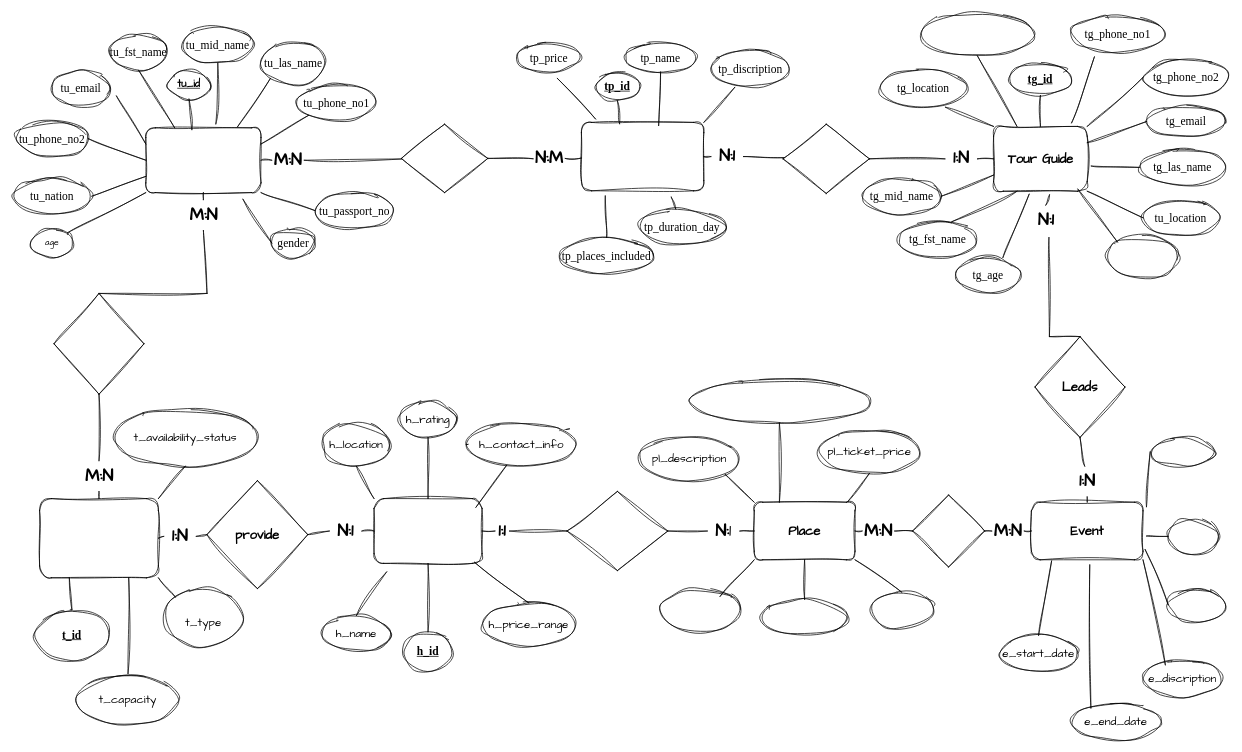
This 1242x752 diagram has some shape labels left out. Here are the shapes that lost their labels. From the top down, the centre of each, then its label:
At point (977, 34): "tg_languages-spoken".
At point (203, 160): "Tourist".
At point (444, 158): "can book".
At point (642, 156): "Tour package".
At point (825, 158): "led by".
At point (1142, 257): "tg_gender".
At point (98, 343): "Used by".
At point (779, 401): "pl_historical_sihnificance".
At point (1182, 451): "e_name".
At point (98, 538): "Transportation".
At point (427, 530): "Hotel".
At point (617, 531): "is associated".
At point (948, 530): "Occurs at".
At point (1193, 536): "e_id".
At point (700, 610): "pl_location".
At point (804, 617): "pl_id".
At point (901, 609): "pl_name".
At point (1196, 604): "e_location".
